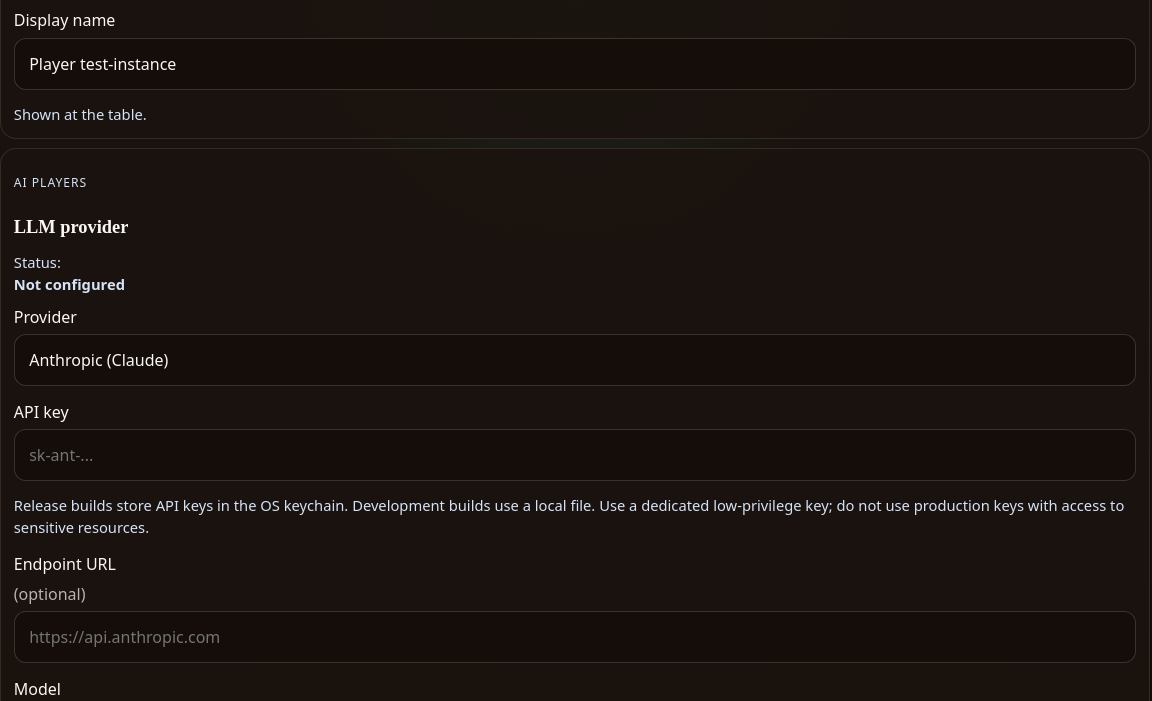
Test: DeviceSettingsScreen › does not show plaintext-storage warning for providers that do not require API keys
(page scrolled)
// Switch to Ollama, which needs no key.
Select "Ollama (local)" in the dropdown named "LLM provider" at coordinates (575, 360), box [14,334,1136,386]
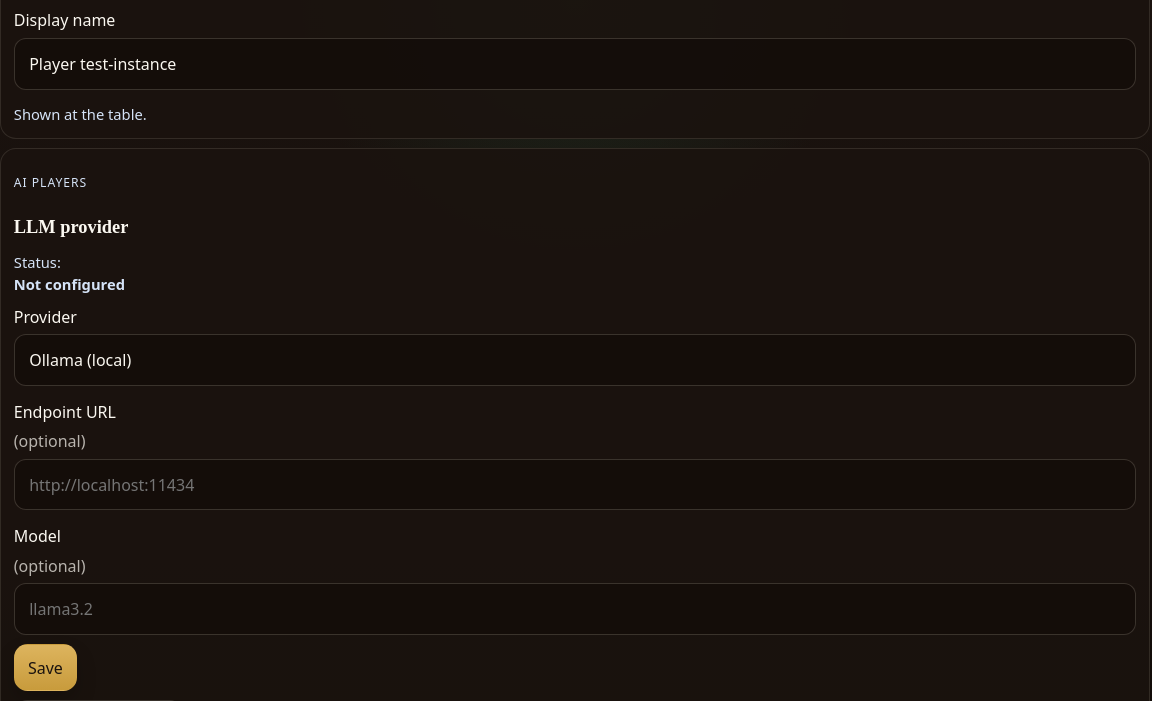
Now the text "Release builds store API keys in the OS keychain" is gone
